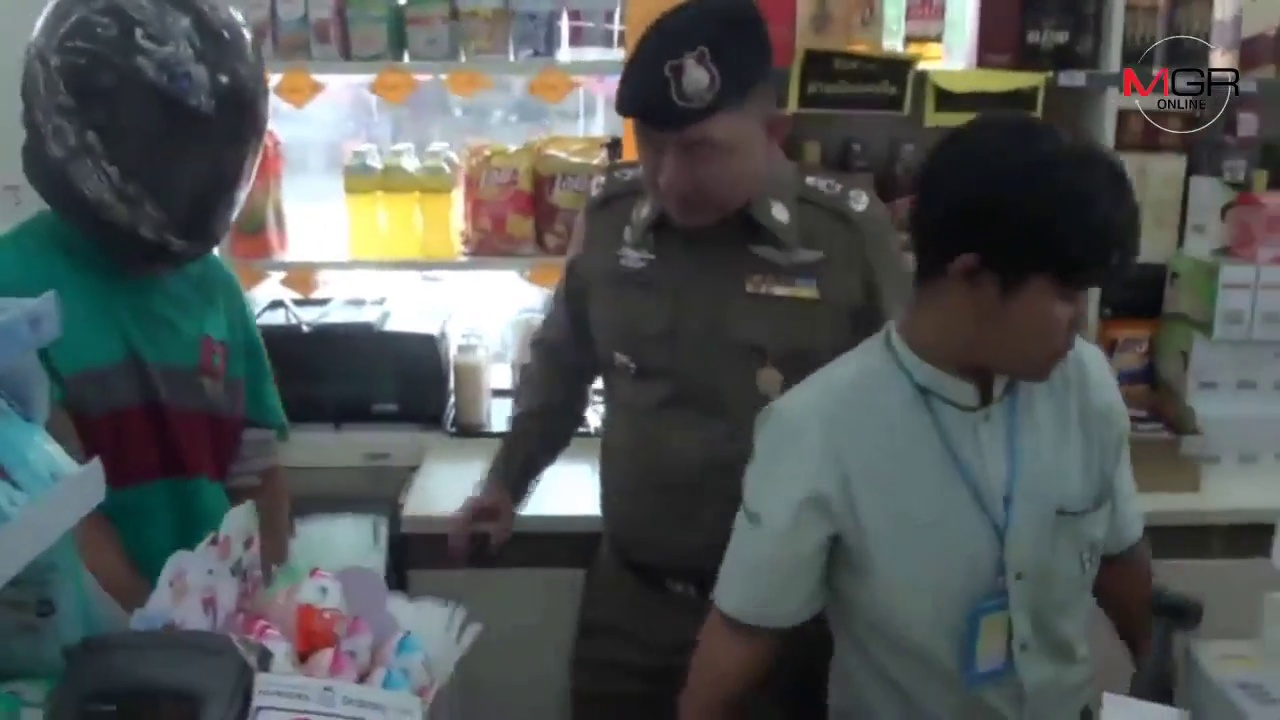helmet: (9, 1, 275, 256)
